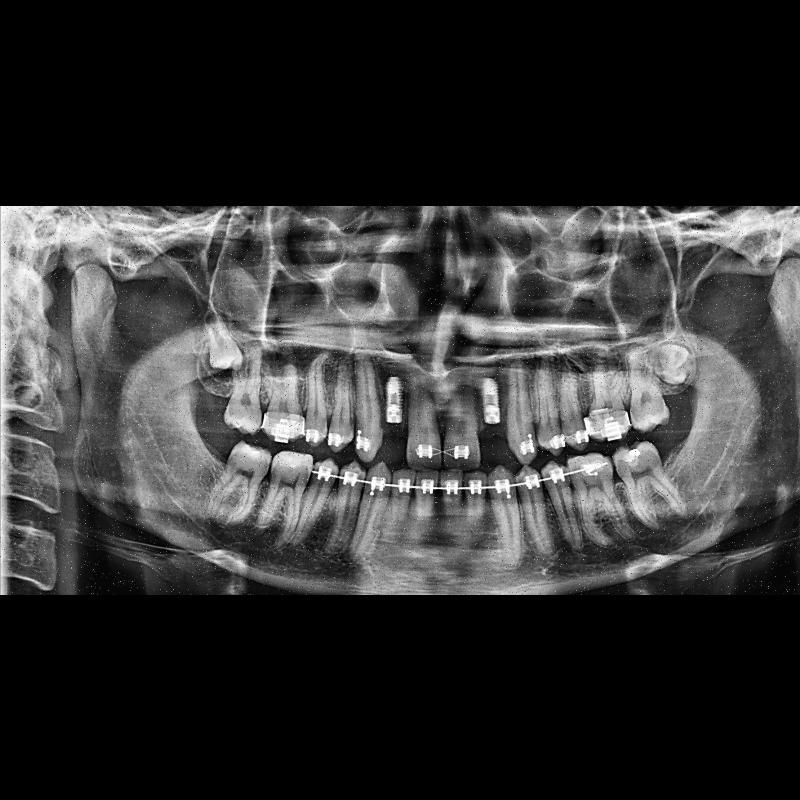osstem: (380, 372, 408, 430), (476, 374, 504, 426)
